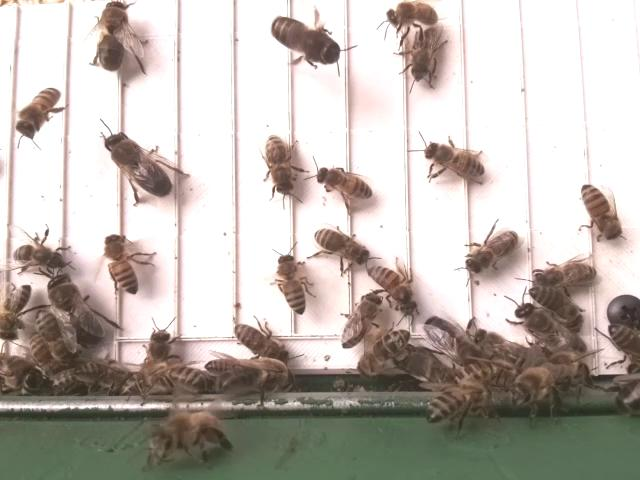Drone: (104, 129, 175, 201), (47, 271, 107, 349), (268, 12, 344, 68), (514, 302, 587, 360), (420, 313, 483, 367), (94, 0, 132, 74)
Worker: (421, 141, 488, 180), (356, 327, 413, 372), (231, 321, 292, 363), (104, 230, 141, 299), (364, 265, 416, 314), (529, 257, 598, 293), (580, 180, 620, 242), (464, 230, 523, 272), (339, 291, 380, 351), (528, 283, 586, 325), (310, 225, 369, 264), (18, 85, 62, 137), (274, 250, 308, 316), (314, 165, 375, 201), (0, 282, 34, 343), (35, 307, 71, 364), (263, 132, 294, 197), (10, 241, 72, 273), (143, 366, 211, 394), (409, 26, 440, 83), (383, 0, 440, 28)
